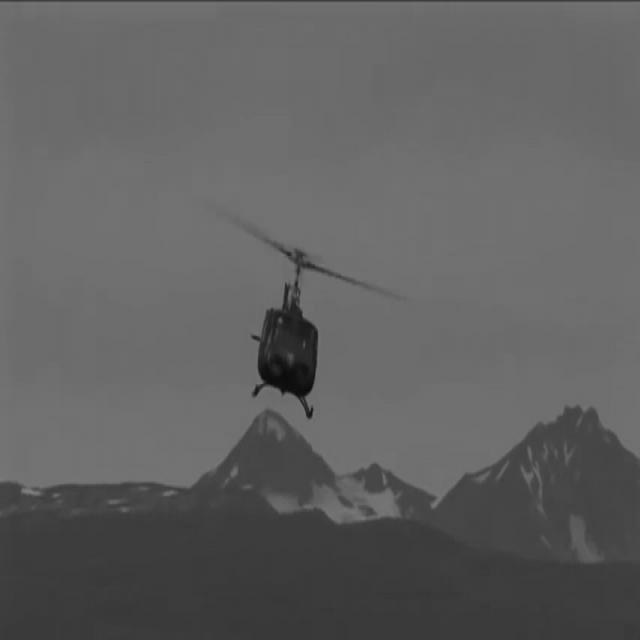helikopter: (236, 238, 351, 431)
